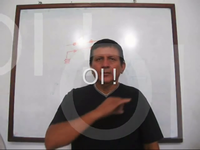oi: (95, 95, 135, 119)
